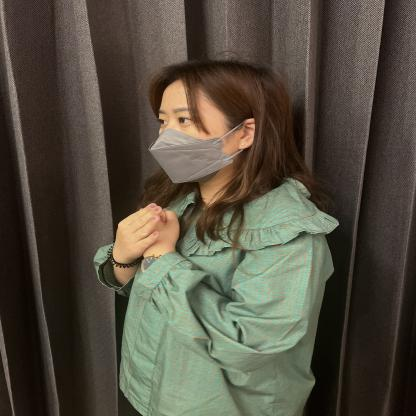Grieve: (41, 176, 302, 322)
